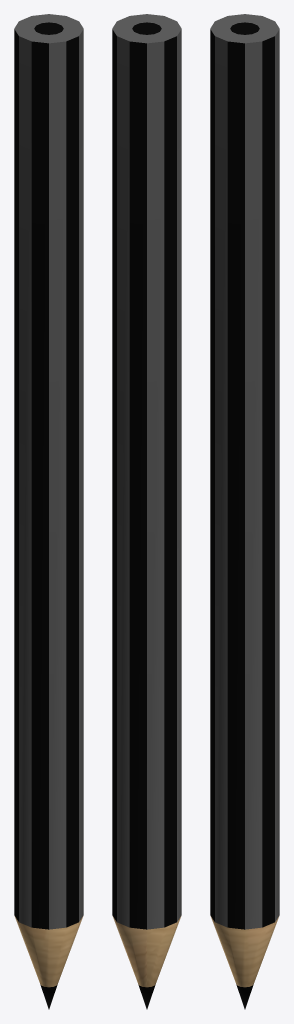
Rendered from pencil 1.fbx.
3 renders of one model, left to right at view 1: azimuth 30°, elevation 25°; view 2: azimuth 150°, elevation 25°; view 3: azimuth 330°, elevation 25°, orthographic.
Parts seen in each view (by area): view 1: pencil; view 2: pencil; view 3: pencil.
Boxes of the visible parts, x1,y1,x2,y2 form: pencil: [14, 14, 83, 1009]; pencil: [112, 14, 181, 1009]; pencil: [210, 14, 279, 1009].
Bounding box in the file's own units: 2.59 × 40.3 × 2.59.
